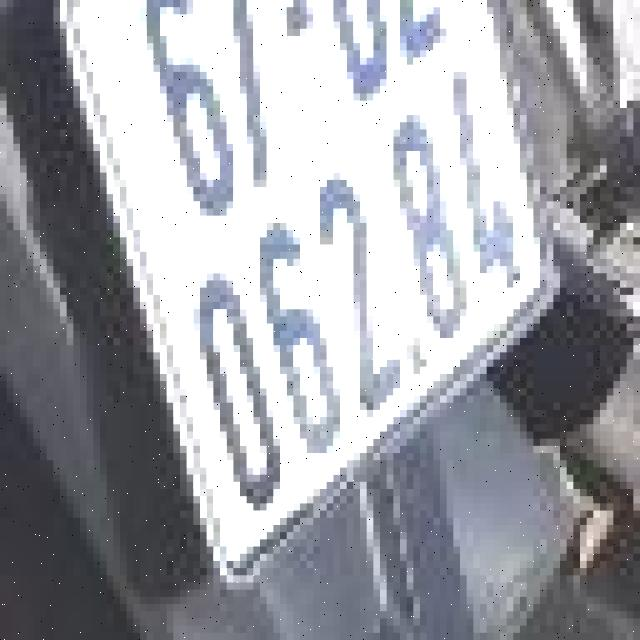0: (174, 249, 302, 536)
2: (295, 148, 415, 431), (386, 0, 463, 71)
4: (434, 52, 530, 311)
6: (238, 199, 358, 486), (119, 0, 255, 239)
7: (204, 0, 315, 197)
8: (370, 94, 485, 361)
D: (317, 0, 406, 124)
